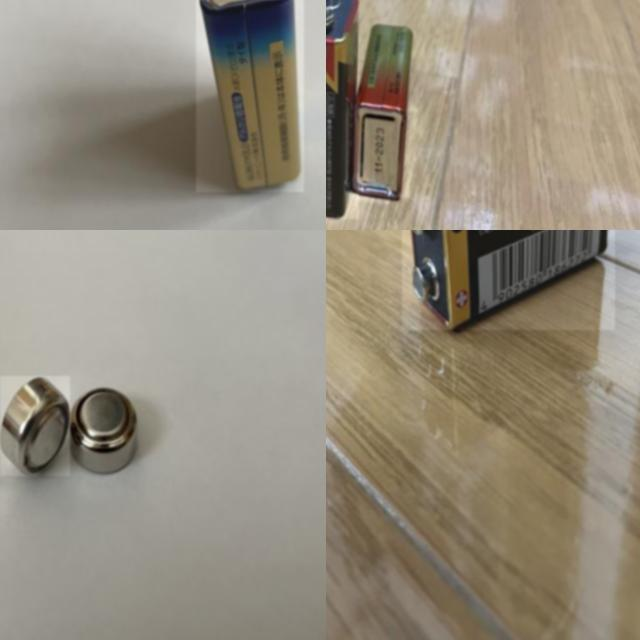9V: (402, 230, 615, 330), (196, 0, 303, 192), (346, 22, 414, 202), (326, 0, 359, 219)
